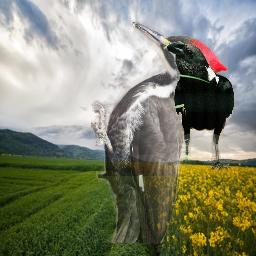Crow: (163, 42, 234, 171)
Woodpecker: (91, 18, 228, 243)
